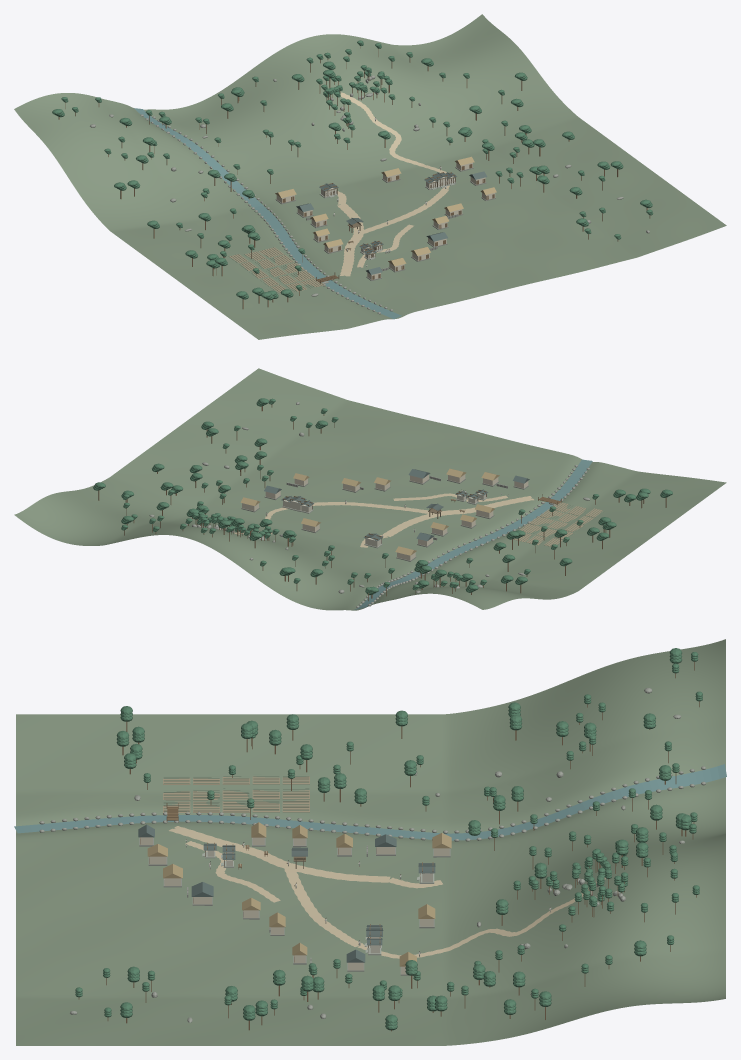
The model's file is blender-village-v032.glb.
The picture shows the model from 3 angles, top to bottom: view 1: azimuth 30°, elevation 25°; view 2: azimuth 150°, elevation 25°; view 3: azimuth 270°, elevation 25°; orthographic projection. The views are drawn at different scales.
Parts seen in each view (by area): view 1: Continuous sculpted terrain | 210m x 190m, Winding stream | recessed channel, Natural Hill track, Natural Market to gate; view 2: Continuous sculpted terrain | 210m x 190m, Winding stream | recessed channel, Natural Market to gate, Natural Guesthouse lane; view 3: Continuous sculpted terrain | 210m x 190m, Winding stream | recessed channel, Natural Market to gate, Natural Guesthouse lane, Natural Hill track.
Part boxes in pixels (x1=…): Continuous sculpted terrain | 210m x 190m: x1=14, y1=14, x2=726, y2=339; Winding stream | recessed channel: x1=134, y1=108, x2=401, y2=319; Natural Hill track: x1=340, y1=92, x2=449, y2=189; Natural Market to gate: x1=337, y1=204, x2=364, y2=276; Continuous sculpted terrain | 210m x 190m: x1=14, y1=368, x2=726, y2=610; Winding stream | recessed channel: x1=353, y1=459, x2=592, y2=610; Natural Market to gate: x1=382, y1=496, x2=533, y2=536; Natural Guesthouse lane: x1=312, y1=502, x2=438, y2=515; Continuous sculpted terrain | 210m x 190m: x1=16, y1=639, x2=725, y2=1045; Winding stream | recessed channel: x1=14, y1=764, x2=726, y2=840; Natural Market to gate: x1=169, y1=826, x2=390, y2=882; Natural Guesthouse lane: x1=283, y1=865, x2=363, y2=946; Natural Hill track: x1=357, y1=877, x2=606, y2=958.
Bounding box in the file's own units: 210 × 32.64 × 191.
